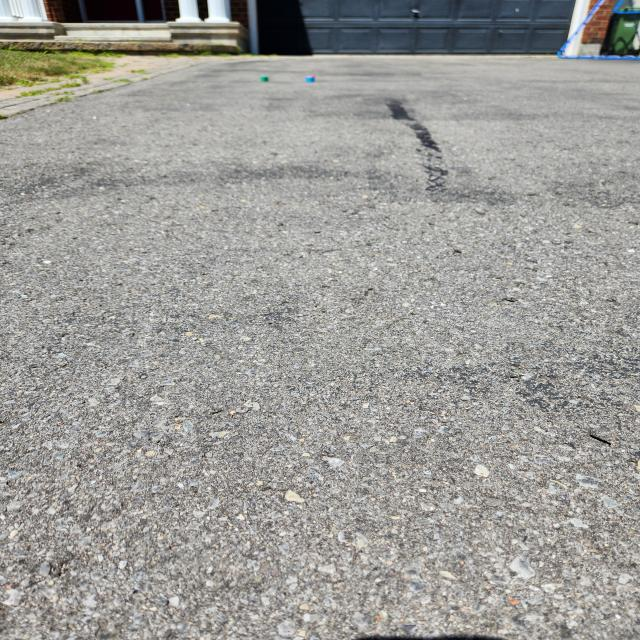bluecube: (306, 77, 314, 82)
green cube: (261, 76, 268, 81)
